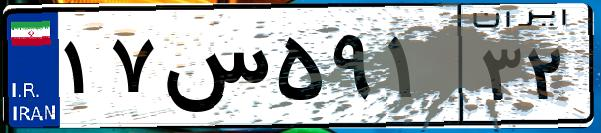1: (385, 28, 445, 110), (57, 26, 110, 100)
2: (525, 38, 570, 115)
3: (475, 38, 525, 113)
5: (270, 28, 330, 110)
7: (110, 28, 158, 98)
9: (330, 28, 385, 110)
س: (158, 20, 270, 120)
